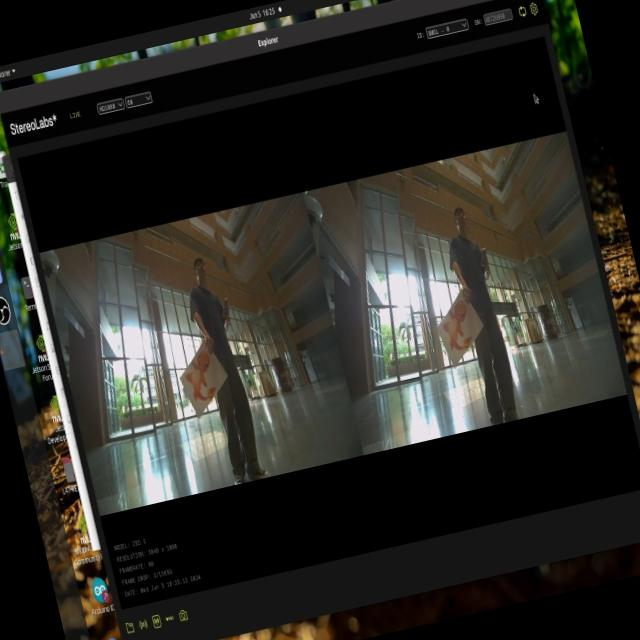red: (436, 304, 479, 371), (180, 348, 220, 408)
